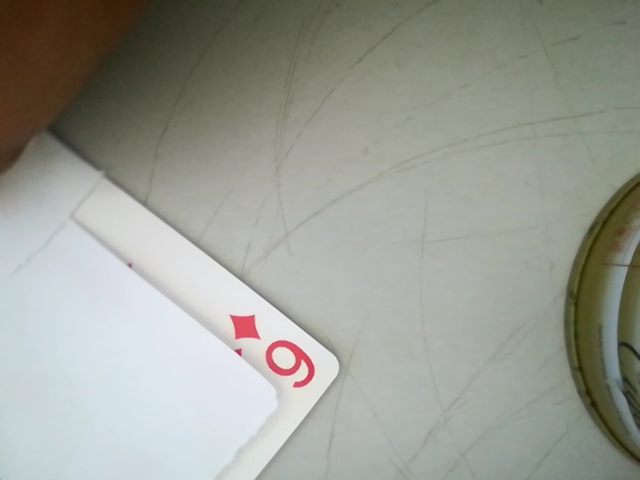fk 6: (216, 310, 327, 391)
